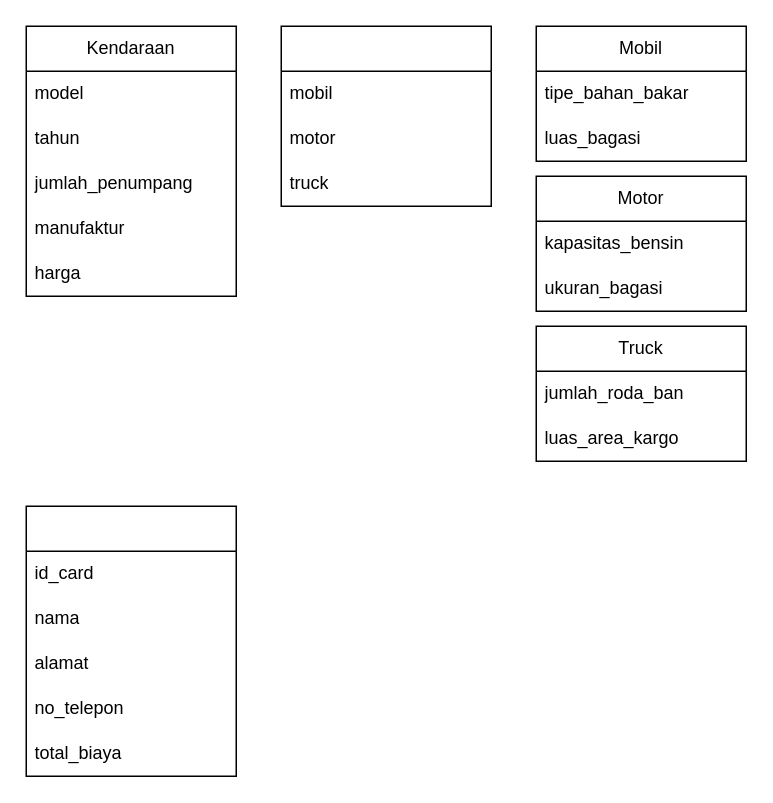
Image size: 773x803. Some labels were removed from this diagram. The shapes that lost their labels are listed below. From the top down, each one's box as (x1, y1, x2, y2) in pixels, then its label:
(280, 25, 491, 206): Jenis_Kendaraan
(25, 505, 236, 776): Customer
